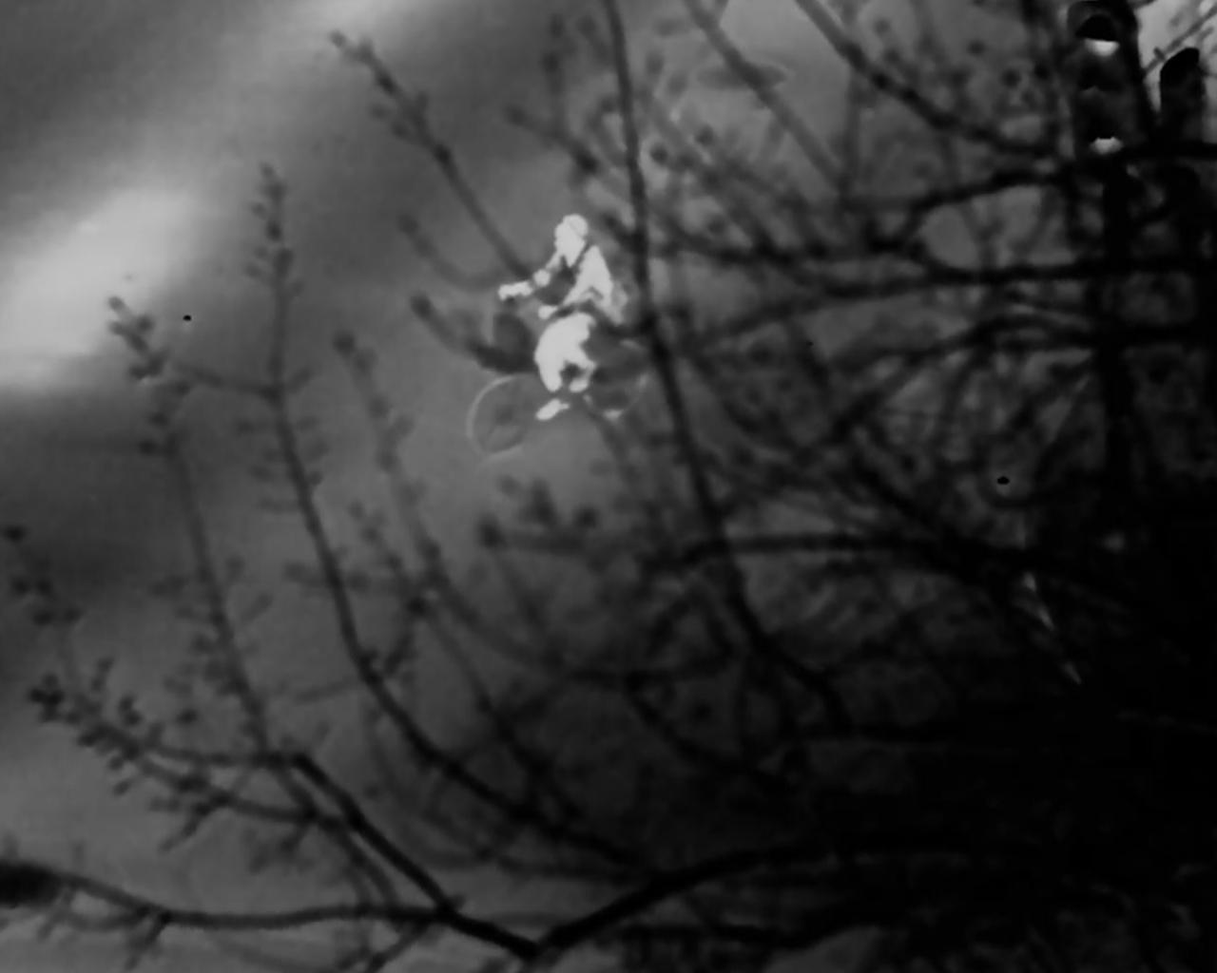person: (492, 219, 627, 414)
